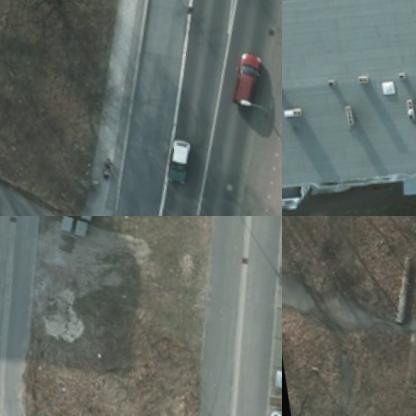car: (227, 48, 270, 105), (158, 134, 198, 182), (268, 362, 281, 401)
